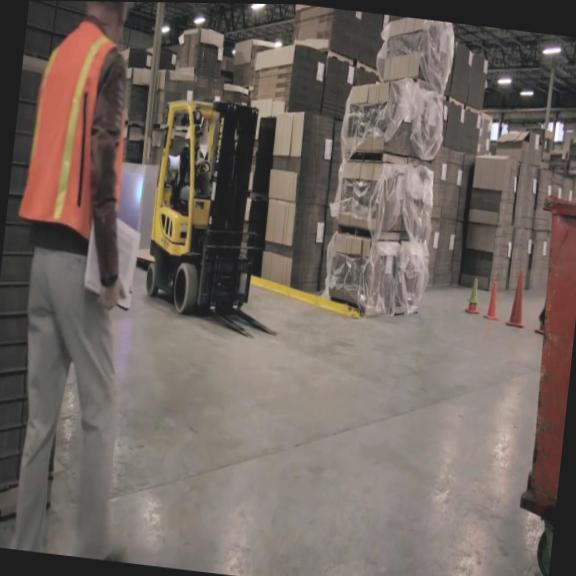safety_vest: (15, 4, 139, 251)
